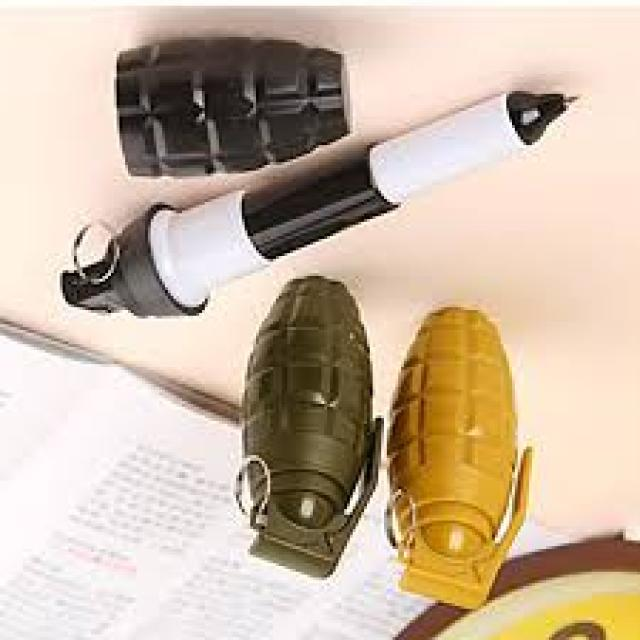grenade: (379, 296, 541, 608), (231, 273, 389, 591)
